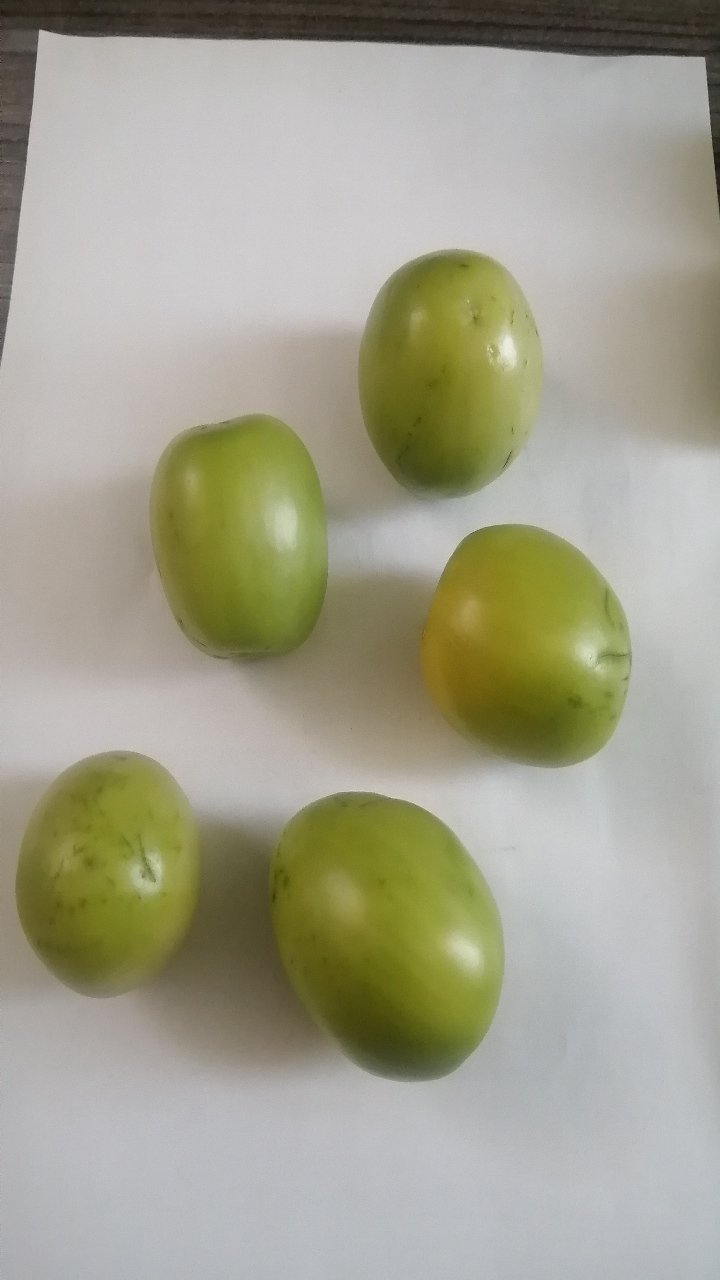tomateVerde: (254, 752, 512, 1103), (394, 497, 643, 792), (352, 237, 584, 519), (6, 714, 206, 1014), (141, 391, 344, 679)
